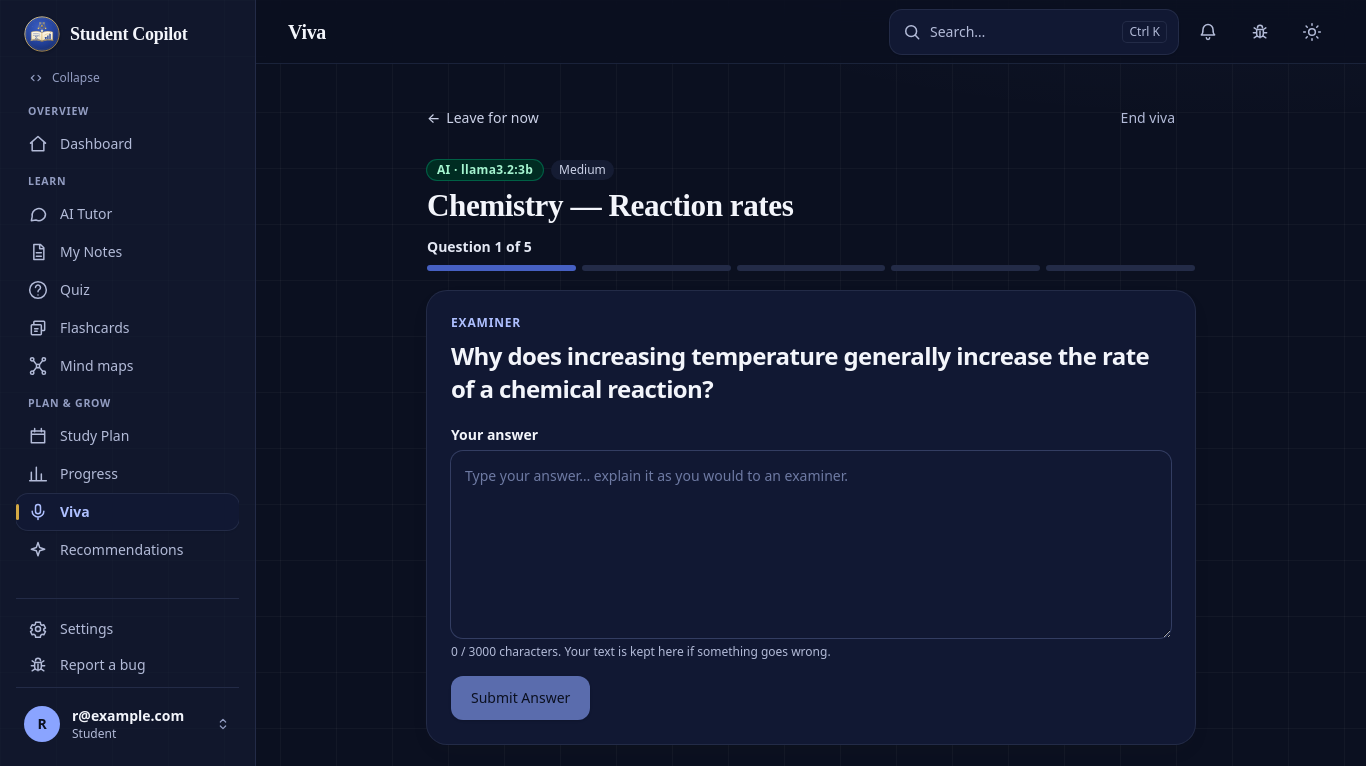
Test case: answering › keeps the typed answer when something goes wrong, and Try again sends it
In the text box labelled "Your answer": (811, 544) [451, 451, 1171, 638], type "Higher temperature gives particles more energy, so more collisions exceed the activation energy and succeed."
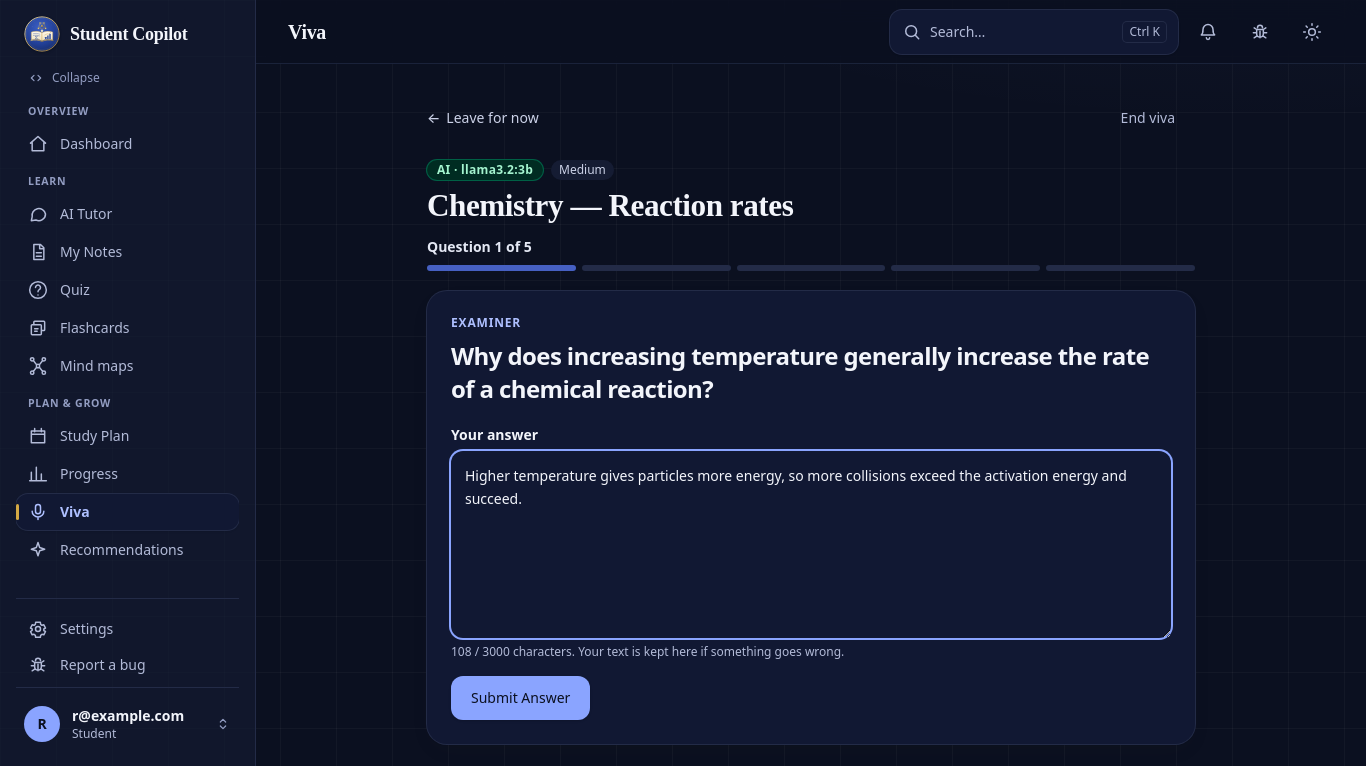
Click the button "Submit Answer": (521, 698) [451, 676, 590, 720]
(page scrolled)
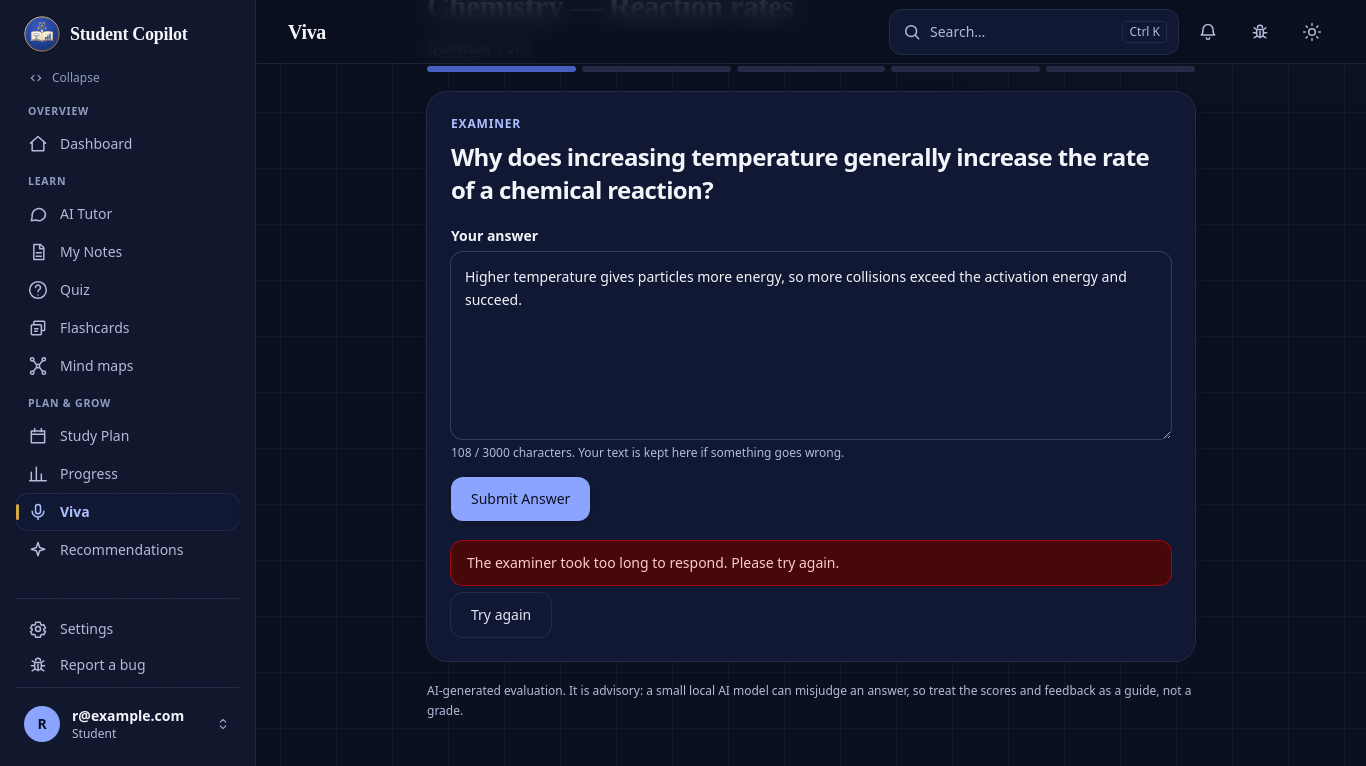
Now the text "The examiner took too long to respond. Please try again." is shown, box [451, 541, 1171, 585]
Click the button "Try again": (501, 615) [451, 593, 551, 637]
(page scrolled)
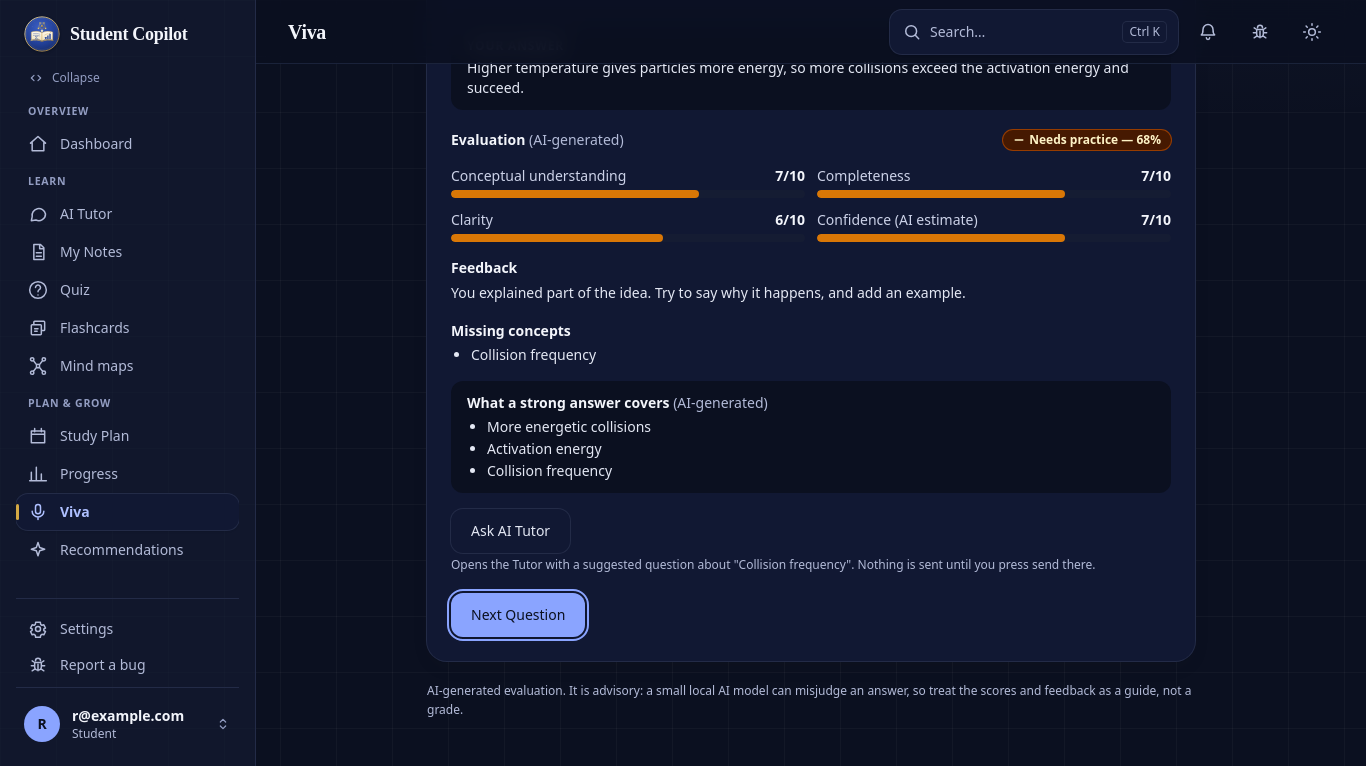
Now the button "Next Question" is shown, box [451, 592, 585, 636]
